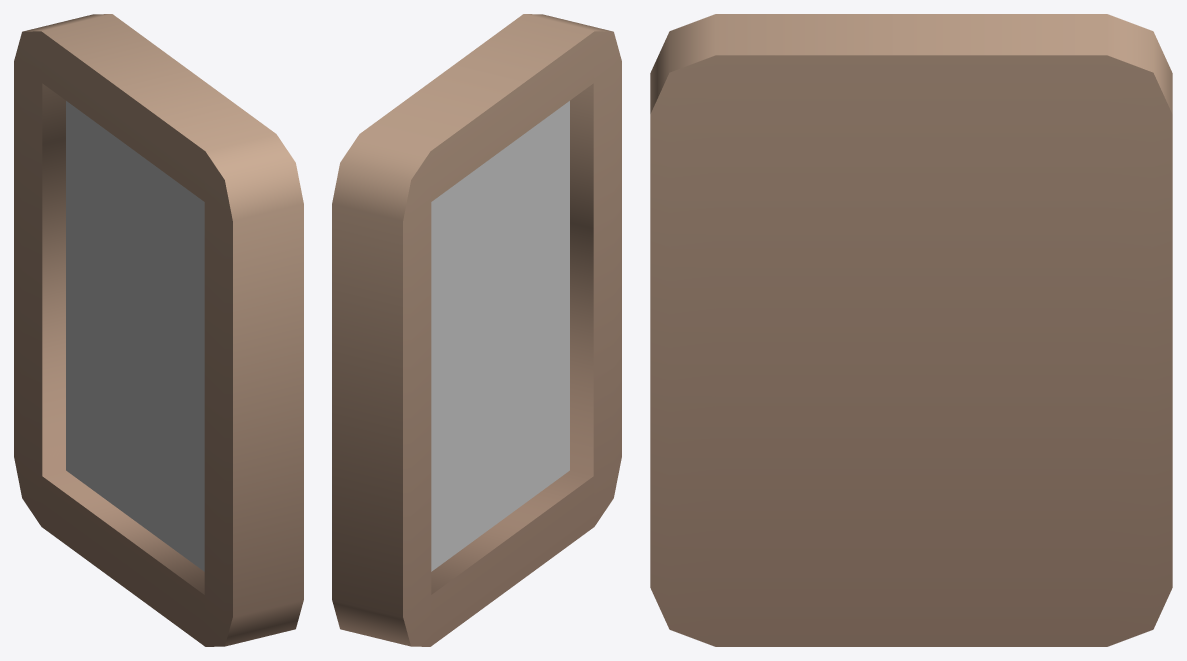
File: mirror-rectangle-small (%wall).glb
3 views of the same model, side by side, from view 1: azimuth 30°, elevation 25°; view 2: azimuth 150°, elevation 25°; view 3: azimuth 270°, elevation 25° (orthographic). The views are drawn at different scales.
Visible parts, largest first — view 1: mirror-rectangle-small (%wall); view 2: mirror-rectangle-small (%wall); view 3: mirror-rectangle-small (%wall).
Boxes of the visible parts, x1,y1,x2,y2 form: mirror-rectangle-small (%wall): (14, 14, 303, 646); mirror-rectangle-small (%wall): (332, 14, 621, 646); mirror-rectangle-small (%wall): (650, 14, 1172, 646).
Size of the model in its own units: 0.075 by 0.5 by 0.4.
